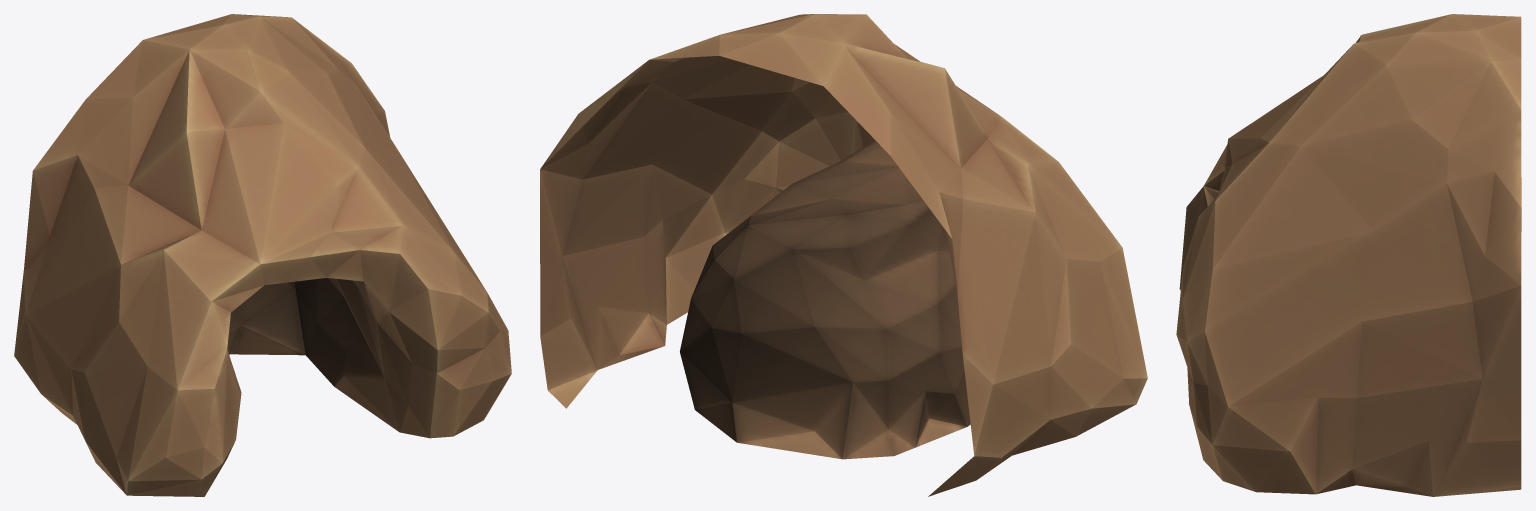
The model's file is Mountain rock_2.fbx.
3 views of the same model, side by side, from view 1: azimuth 30°, elevation 25°; view 2: azimuth 150°, elevation 25°; view 3: azimuth 270°, elevation 25° (orthographic). The views are drawn at different scales.
Visible parts, largest first — view 1: Mountain rock_2; view 2: Mountain rock_2; view 3: Mountain rock_2.
Boxes of the visible parts, left/top/right/bottom form: Mountain rock_2: left=14, top=14, right=511, bottom=496; Mountain rock_2: left=540, top=14, right=1147, bottom=496; Mountain rock_2: left=1176, top=14, right=1521, bottom=496.
Size of the model in its own units: 146 by 104 by 124.
1 material, 1 textured.
